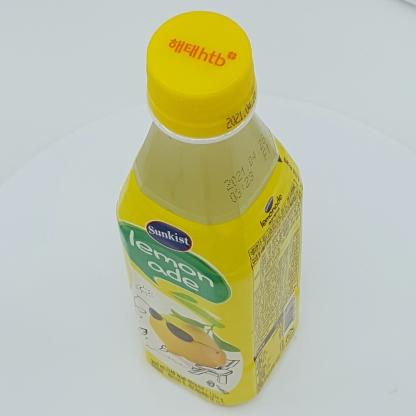-------350ML: (116, 9, 302, 407)
